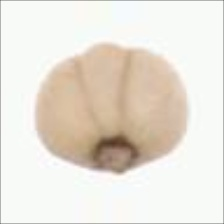L5: (73, 38, 135, 137), (83, 132, 141, 177)
L6: (34, 41, 192, 175)
